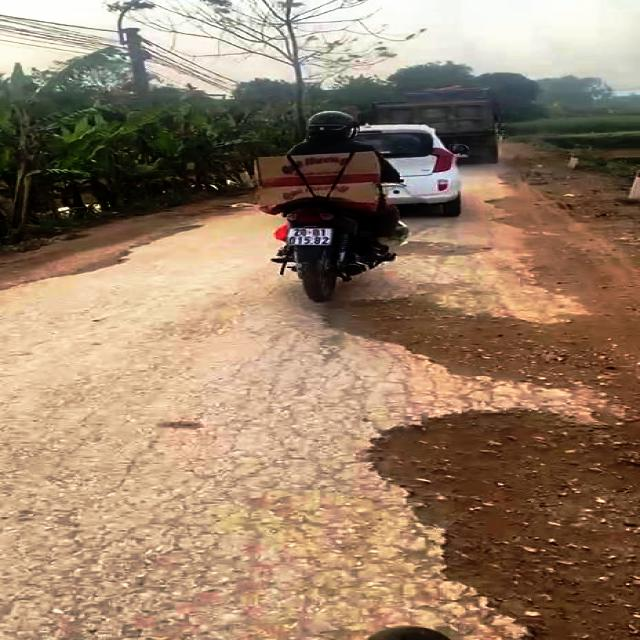pothole: (356, 401, 640, 640), (313, 296, 618, 401), (29, 247, 146, 282), (379, 235, 491, 260)
